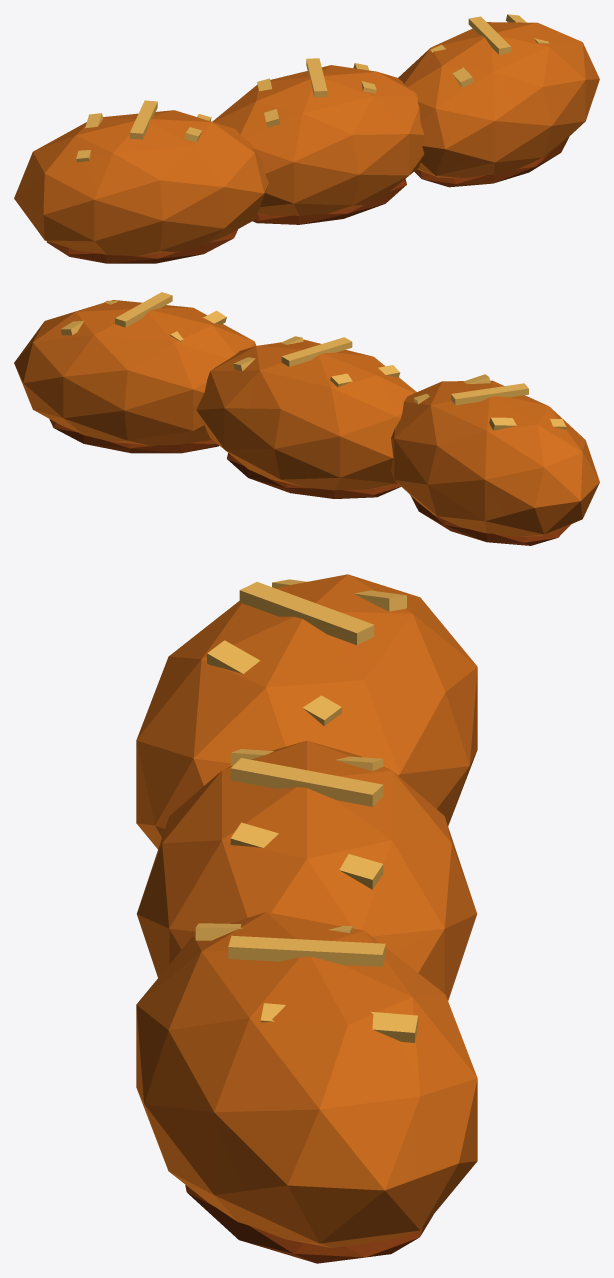
File: pile-bread-3.obj
The picture shows the model from 3 angles, top to bottom: view 1: azimuth 30°, elevation 25°; view 2: azimuth 150°, elevation 25°; view 3: azimuth 270°, elevation 25°; orthographic projection. The views are drawn at different scales.
Visible parts, largest first — view 1: pile-bread-3; view 2: pile-bread-3; view 3: pile-bread-3.
Boxes of the visible parts, left/top/right/bottom form: pile-bread-3: left=14, top=14, right=599, bottom=263; pile-bread-3: left=14, top=292, right=599, bottom=545; pile-bread-3: left=136, top=574, right=477, bottom=1263.
Bounding box in the file's own units: 0.8843 × 0.2025 × 0.2306.
1 material, 1 textured.
